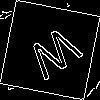W: (25, 25, 89, 89)
